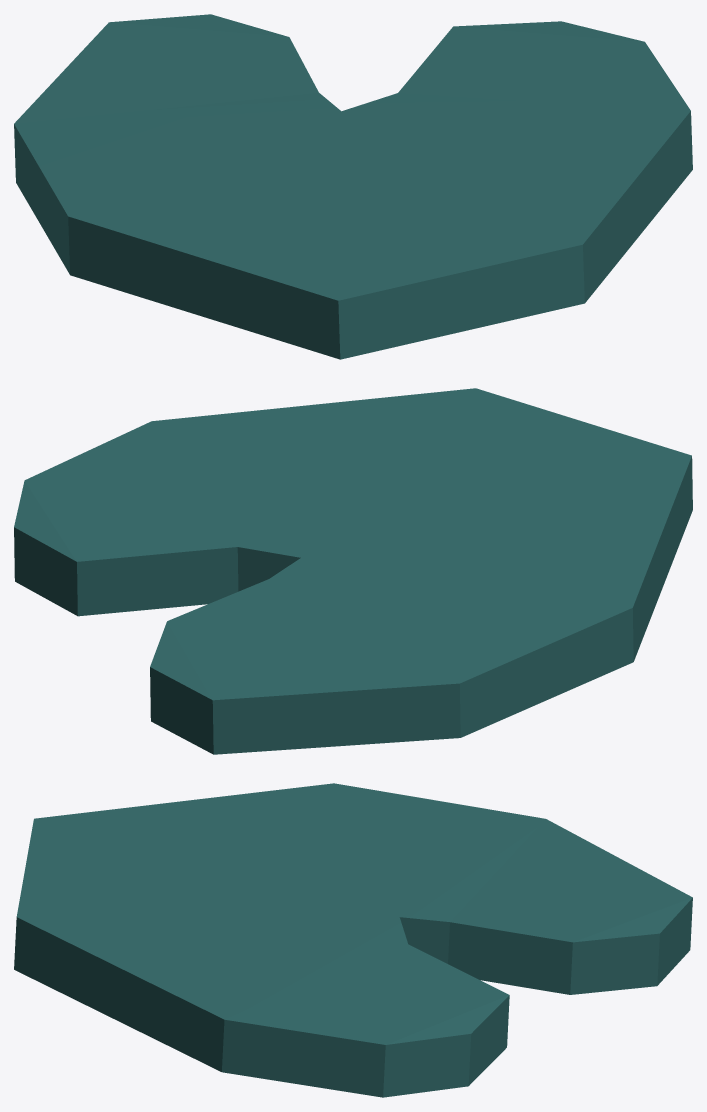
File: fbFlowers4.fbx
The picture shows the model from 3 angles, top to bottom: view 1: azimuth 30°, elevation 25°; view 2: azimuth 150°, elevation 25°; view 3: azimuth 270°, elevation 25°; orthographic projection. The views are drawn at different scales.
Parts seen in each view (by area): view 1: fbPitcher2; view 2: fbPitcher2; view 3: fbPitcher2.
Part boxes in pixels (x1=…): fbPitcher2: x1=14, y1=14, x2=692, y2=359; fbPitcher2: x1=14, y1=388, x2=692, y2=754; fbPitcher2: x1=14, y1=783, x2=692, y2=1097.
Bounding box in the file's own units: 54.12 × 7.26 × 58.09.
